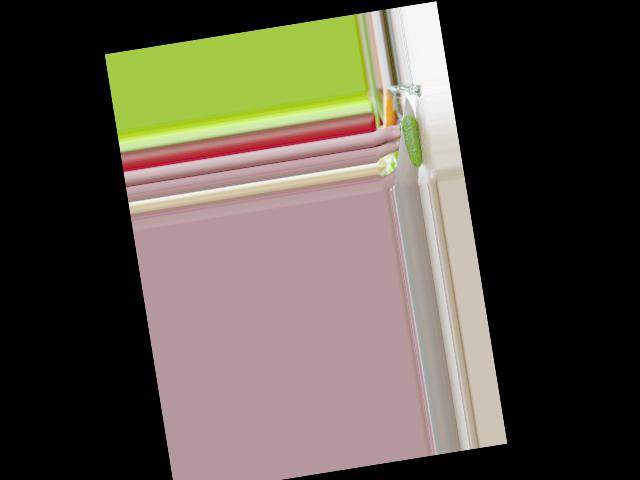cucumber: (400, 113, 424, 168)
